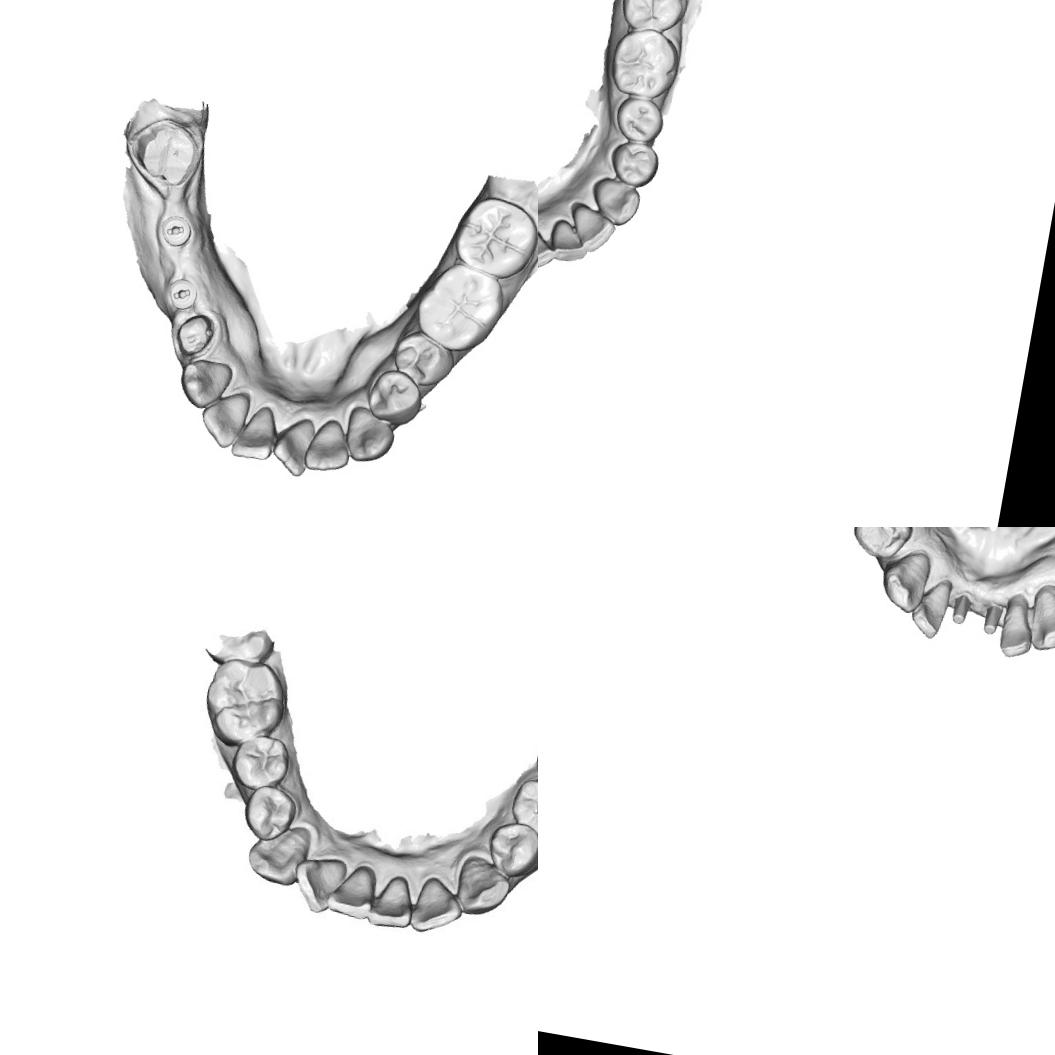abutment: (947, 590, 975, 627), (979, 600, 1006, 637)
canine: (242, 819, 308, 890), (450, 852, 515, 921), (876, 545, 934, 616), (339, 400, 399, 467), (174, 352, 238, 414), (584, 171, 646, 230), (1023, 581, 1055, 656)
crown: (125, 113, 207, 193), (170, 307, 218, 361)
implant_minus: (153, 210, 196, 252), (161, 272, 202, 316)
incisor: (405, 870, 467, 940), (300, 412, 358, 477), (195, 387, 253, 452), (227, 402, 286, 465), (268, 410, 319, 480), (364, 872, 420, 934), (562, 197, 618, 258), (289, 853, 341, 918), (906, 572, 954, 640), (322, 864, 378, 922), (995, 589, 1040, 661), (543, 213, 592, 267), (538, 220, 559, 275)
molar: (408, 256, 512, 360), (196, 653, 294, 753), (446, 188, 538, 285), (602, 21, 687, 105), (615, 0, 698, 42)
premolar: (225, 727, 296, 798), (385, 326, 460, 393), (361, 364, 428, 430), (237, 781, 300, 844), (480, 816, 538, 882), (609, 88, 671, 148), (604, 132, 664, 194), (846, 527, 914, 564), (505, 773, 538, 838)
